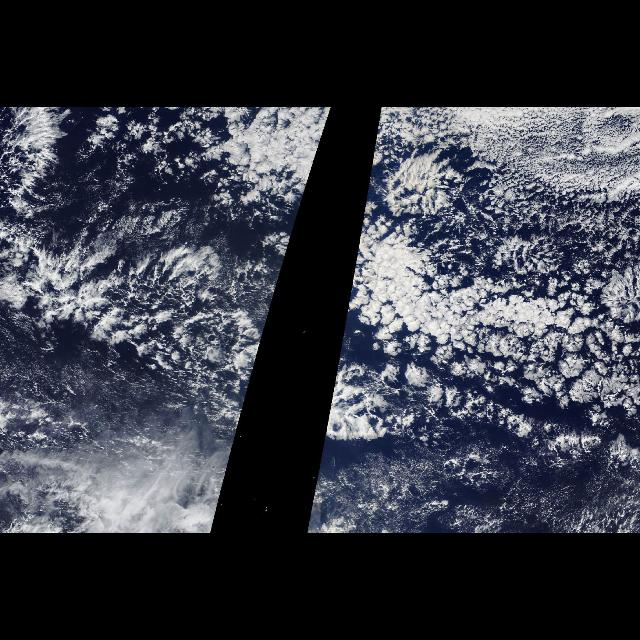Gravel: (1, 220, 270, 396)
Sugar: (322, 460, 634, 530)
